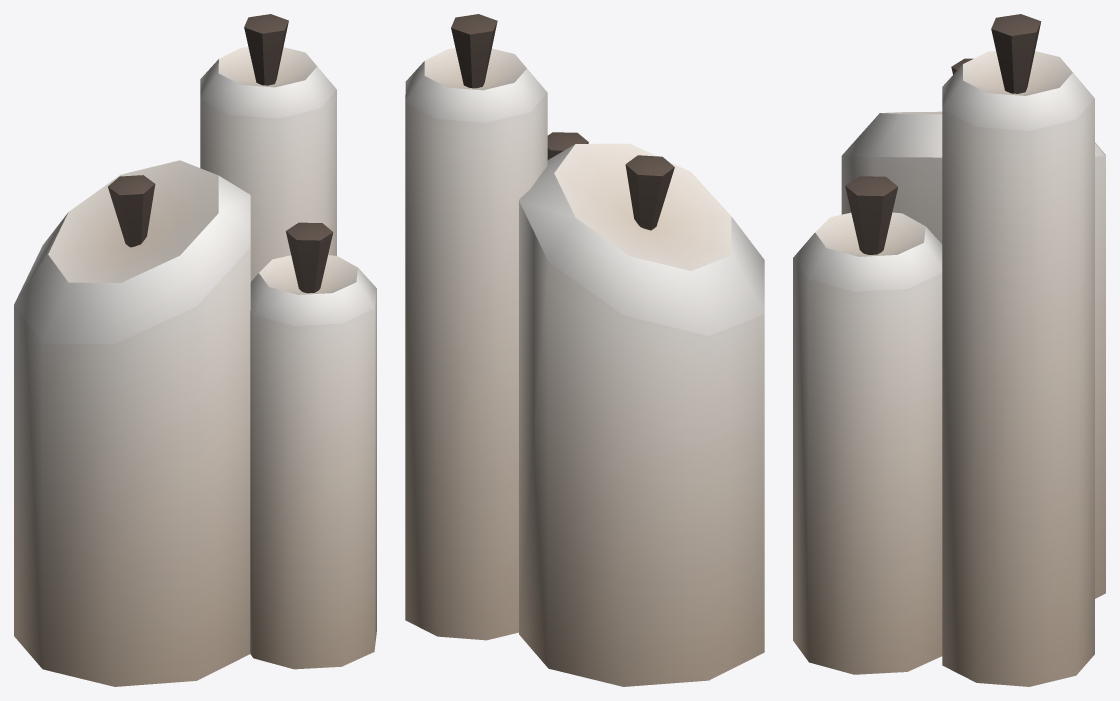
Rendered from candle.fbx.
3 views of the same model, side by side, from view 1: azimuth 30°, elevation 25°; view 2: azimuth 150°, elevation 25°; view 3: azimuth 270°, elevation 25° (orthographic). The views are drawn at different scales.
Visible parts, largest first — view 1: candle_triple; view 2: candle_triple; view 3: candle_triple.
Part boxes in pixels (x1,y1,x2,y2): candle_triple: (14, 14, 376, 686); candle_triple: (405, 14, 764, 686); candle_triple: (793, 14, 1105, 686).
Size of the model in its own units: 50.12 by 87.3 by 38.99.
Materials: 1 (1 with a texture image).
